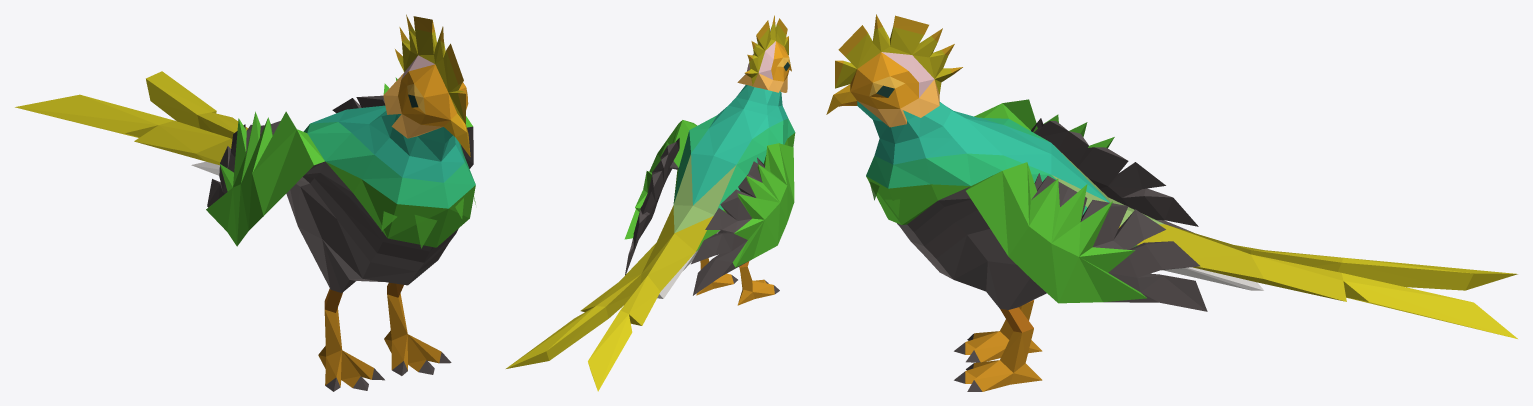
Rendered from quetzal-network.gltf.
3 views of the same model, side by side, from view 1: azimuth 30°, elevation 25°; view 2: azimuth 150°, elevation 25°; view 3: azimuth 270°, elevation 25° (orthographic). The views are drawn at different scales.
Bounding box in the file's own units: 128 × 226 × 403.
Materials: 2 (2 with a texture image).
